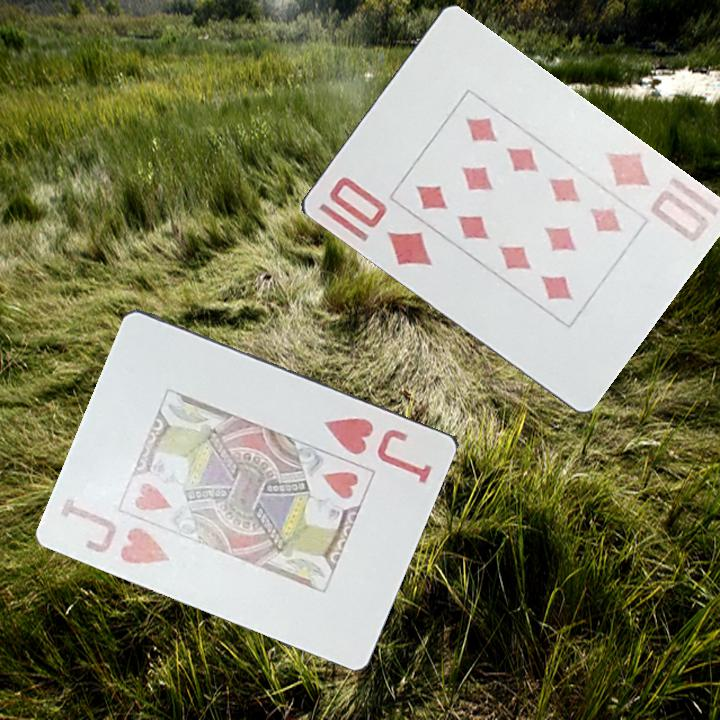Jh: (57, 494, 174, 567), (321, 413, 436, 486)
Td: (599, 147, 712, 245), (324, 173, 435, 271)
